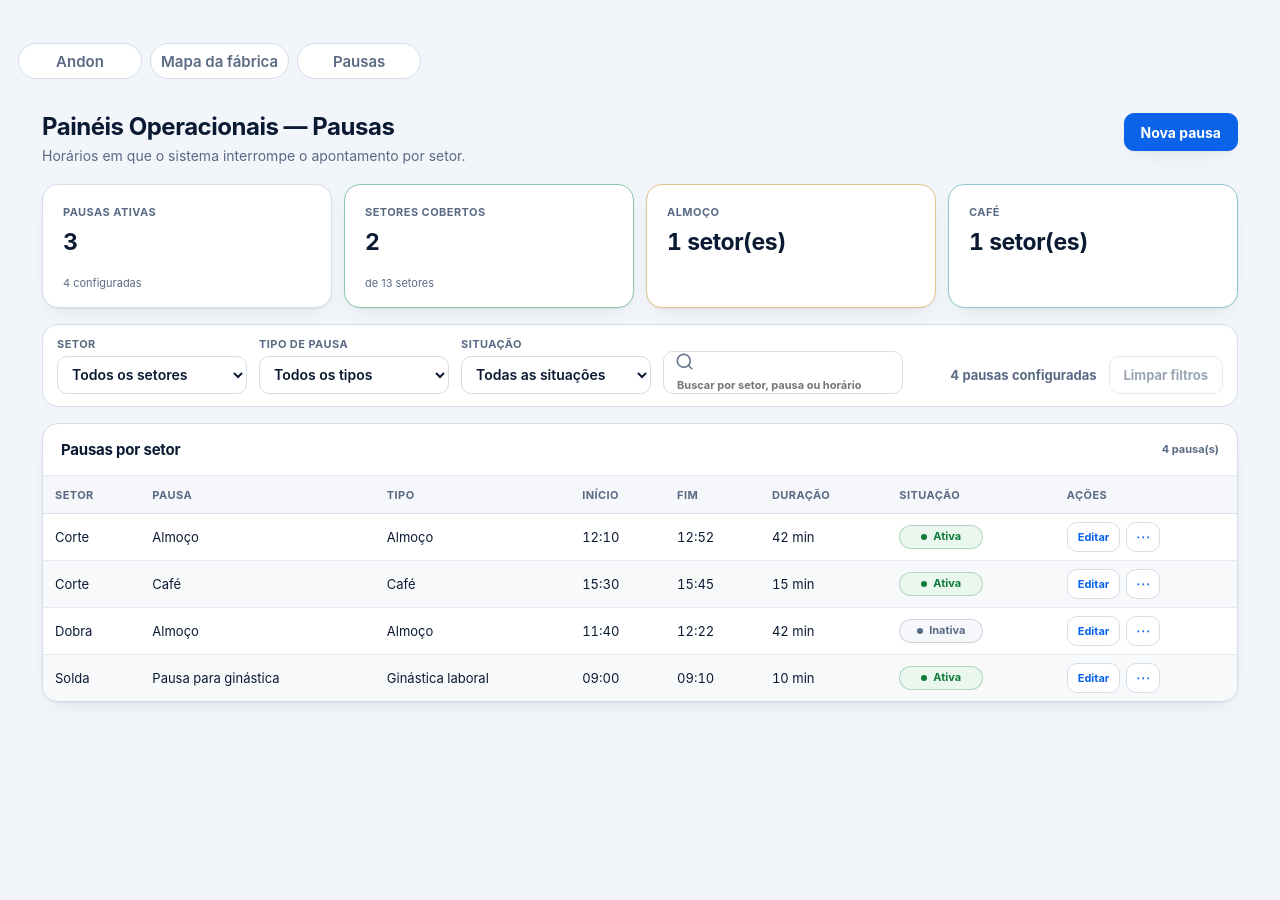
Test: Pausas automáticas — organização e filtros › filtra por setor
The width and height of the screenshot is (1280, 900).
Select "Corte (2)" in the dropdown labelled "Setor" at point(152, 375), box [57,356,247,394]
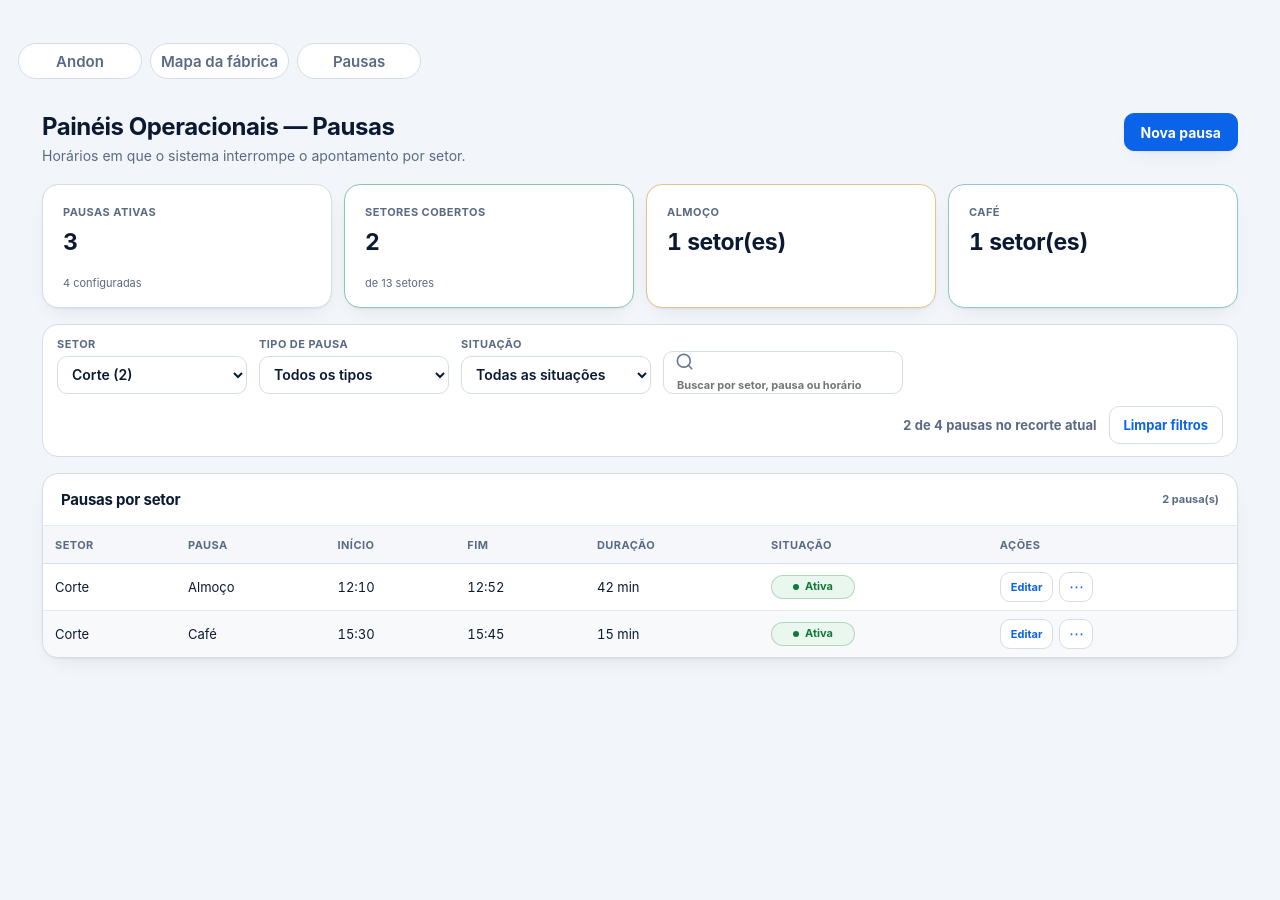
Check: the cell no longer shows "Dobra"
Check: the text "2 de 4 pausas no recorte atual" is shown, box [903,417,1096,433]
